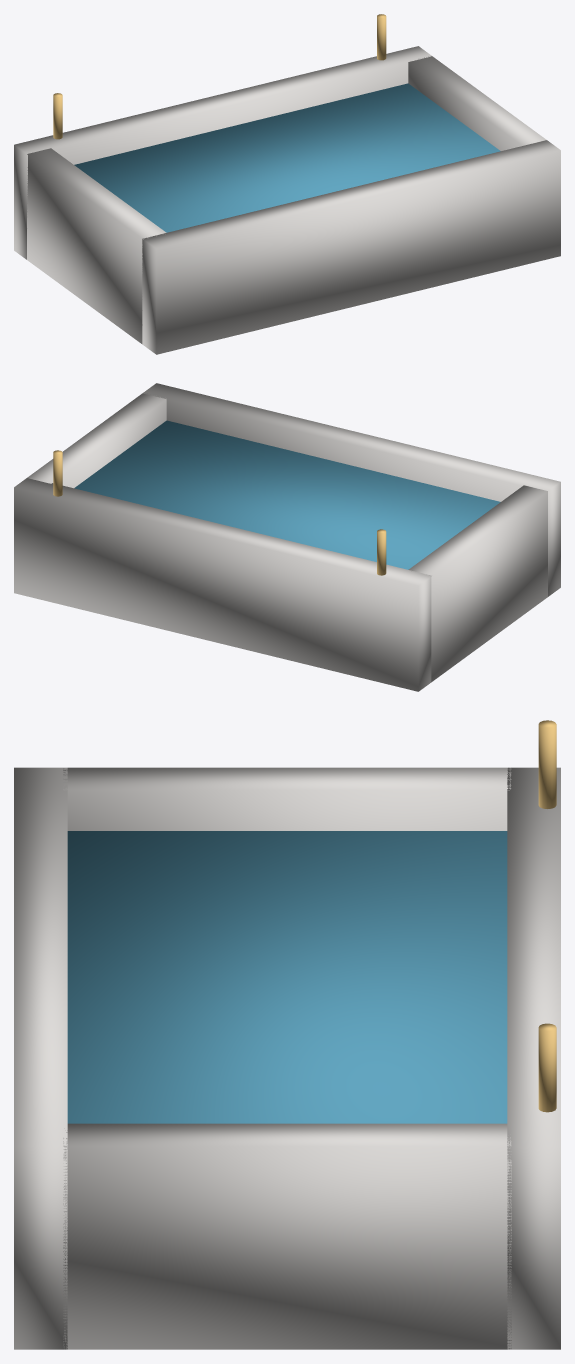
File: tub.glb
3 renders of one model, top to bottom at view 1: azimuth 30°, elevation 25°; view 2: azimuth 150°, elevation 25°; view 3: azimuth 270°, elevation 25°, orthographic. The views are drawn at different scales.
Parts seen in each view (by area): view 1: rim, water, rim.002, rim.001, rim.003, tap.001, tap; view 2: rim.001, water, rim.002, rim, rim.003, tap.001, tap; view 3: water, rim.003, rim, rim.001, rim.002, tap.001, tap.
Boxes of the visible parts, x1,y1,x2,y2 form: rim: (142, 140, 560, 354); water: (74, 83, 500, 232); rim.002: (27, 148, 166, 343); rim.001: (14, 46, 431, 259); rim.003: (408, 56, 546, 150); tap.001: (377, 14, 386, 60); tap: (53, 93, 62, 139); rim.001: (14, 478, 431, 691); water: (74, 420, 500, 569); rim.002: (408, 485, 547, 682); rim: (143, 383, 560, 596); rim.003: (27, 393, 166, 488); tap.001: (53, 450, 62, 496); tap: (377, 529, 386, 575); water: (67, 831, 507, 1123); rim.003: (63, 1123, 511, 1349); rim: (14, 767, 67, 1349); rim.001: (507, 767, 560, 1349); rim.002: (63, 767, 511, 830); tap.001: (538, 1023, 556, 1112); tap: (538, 720, 556, 808).
Size of what is drawn, in the model's own units: 2 by 0.7 by 1.22.
